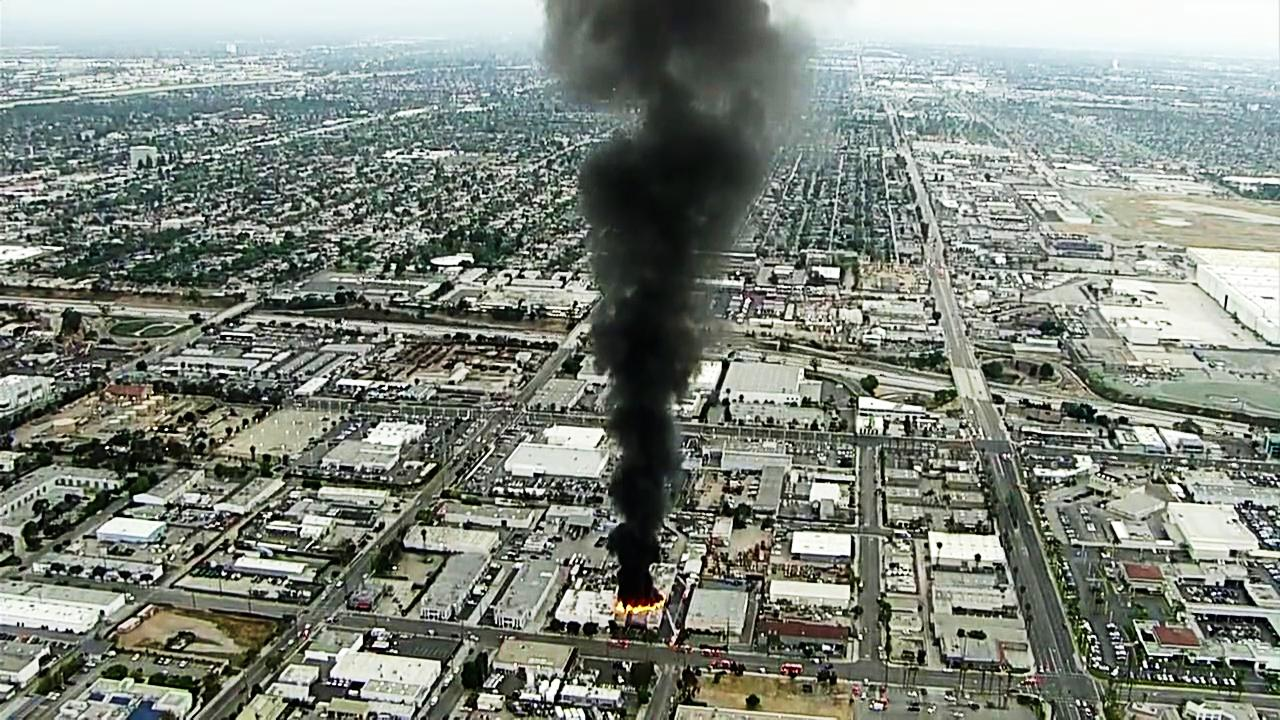smoke: (622, 144, 671, 589)
